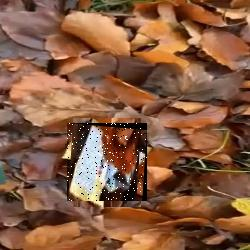plastic: (67, 123, 147, 201)
